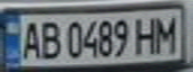0: (63, 18, 84, 58)
4: (81, 17, 100, 59)
8: (96, 17, 115, 57)
9: (112, 16, 133, 57)
A: (15, 18, 45, 61)
B: (36, 18, 63, 61)
H: (133, 12, 160, 55)
M: (151, 11, 181, 54)
